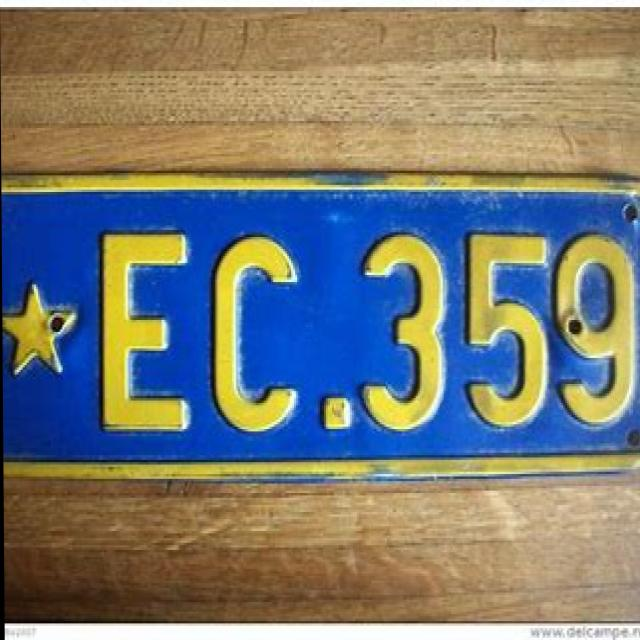Plaque: (1, 179, 640, 465)
